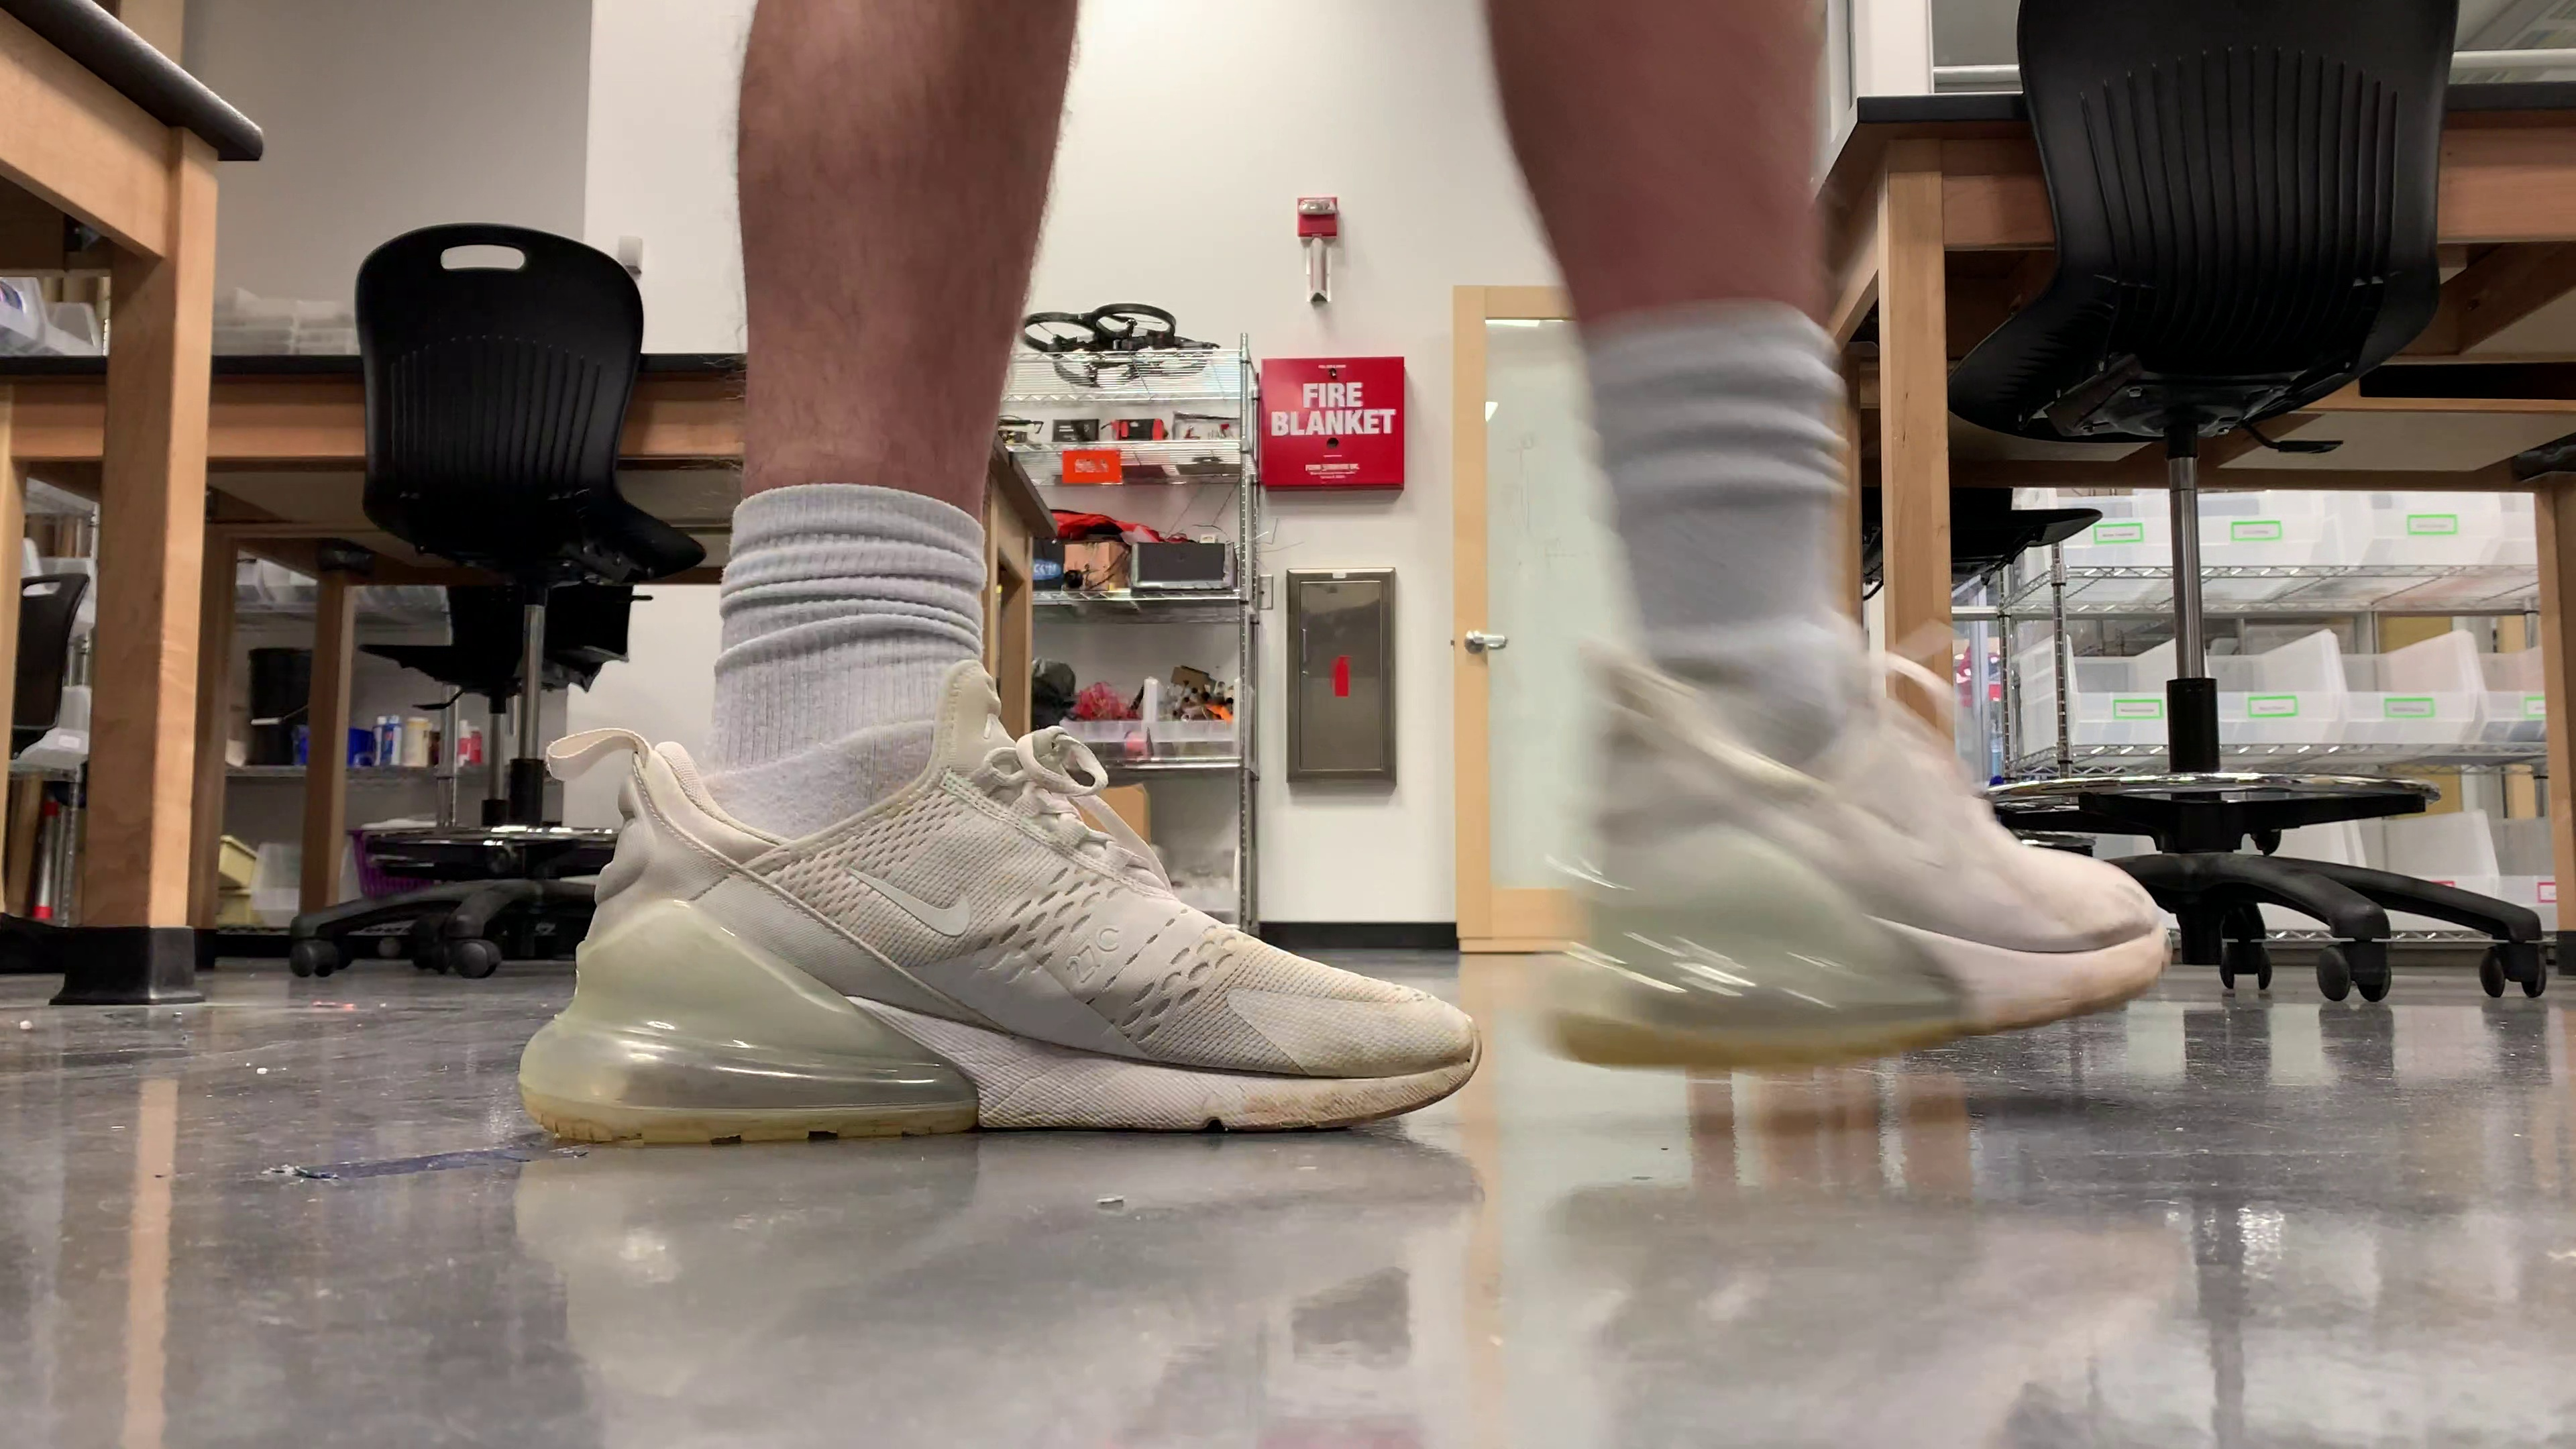shoe: (520, 660, 1479, 1146)
